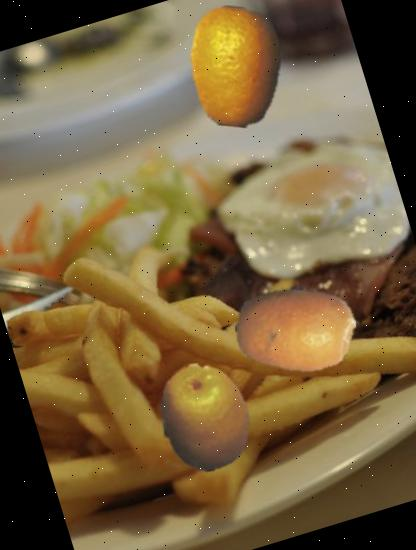Kumquats: (221, 252, 372, 404), (160, 0, 311, 142), (138, 348, 275, 485)
